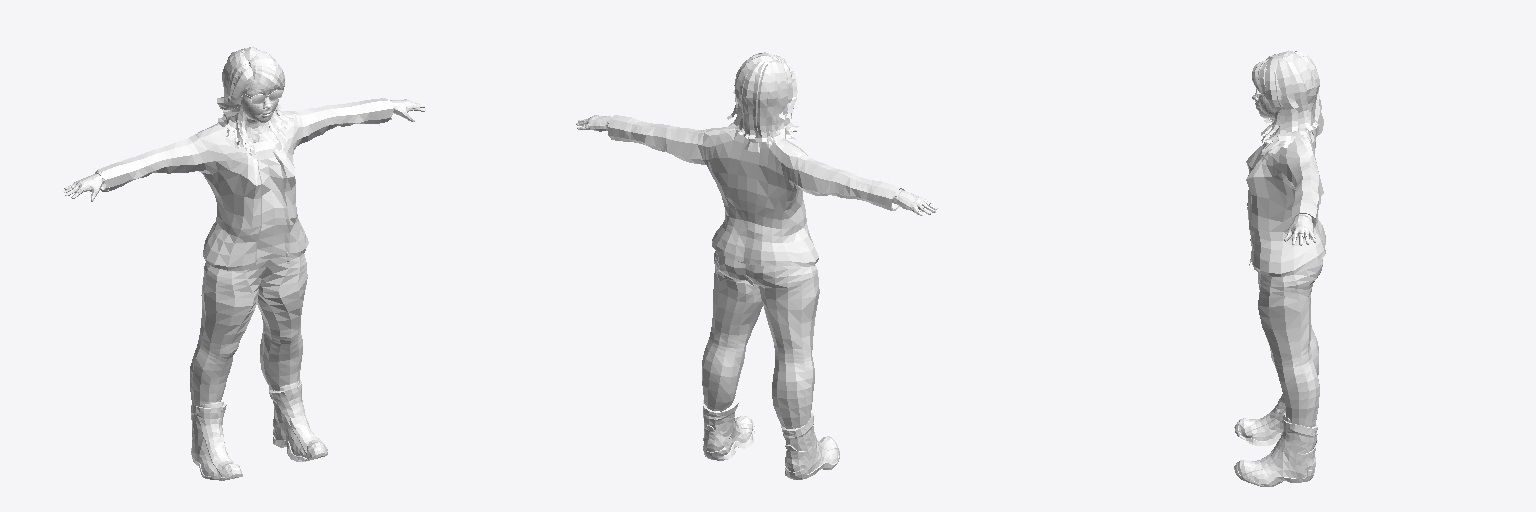
Rendered from Bernice.obj.
3 renders of one model, left to right at view 1: azimuth 30°, elevation 25°; view 2: azimuth 150°, elevation 25°; view 3: azimuth 270°, elevation 25°, orthographic.
Visible parts, largest first — view 1: Tops, Bottoms, Shoes, Hair, Body, Gloves; view 2: Tops, Bottoms, Hair, Shoes, Gloves; view 3: Tops, Bottoms, Hair, Shoes.
Part boxes in pixels (bbox=[...]): Tops: bbox=[95, 98, 393, 270]; Bottoms: bbox=[190, 254, 307, 415]; Shoes: bbox=[191, 380, 327, 480]; Hair: bbox=[217, 46, 293, 156]; Body: bbox=[63, 80, 425, 201]; Gloves: bbox=[70, 99, 418, 196]; Tops: bbox=[607, 115, 904, 266]; Bottoms: bbox=[702, 251, 819, 435]; Hair: bbox=[727, 52, 798, 152]; Shoes: bbox=[703, 395, 839, 479]; Gloves: bbox=[583, 115, 930, 214]; Tops: bbox=[1246, 90, 1325, 276]; Bottoms: bbox=[1258, 258, 1322, 427]; Hair: bbox=[1252, 50, 1319, 154]; Shoes: bbox=[1234, 394, 1317, 486].
Size of the model in its own units: 168 by 182 by 37.25.